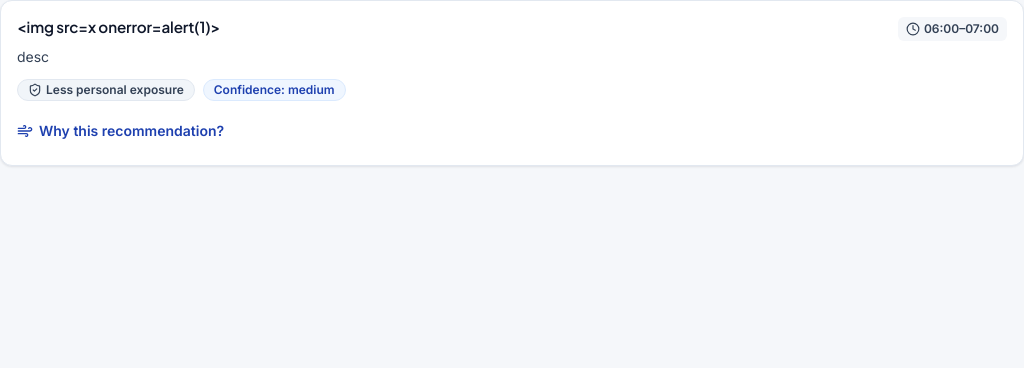
Scenario: RecommendationCard › renders text safely and exposes the explanation
Expected: the heading "<img src=x onerror=alert(1)>" is shown, [17,17,220,38]
Step 1. Click the heading "Why this recommendation?" → (121, 130), box [17,122,224,139]
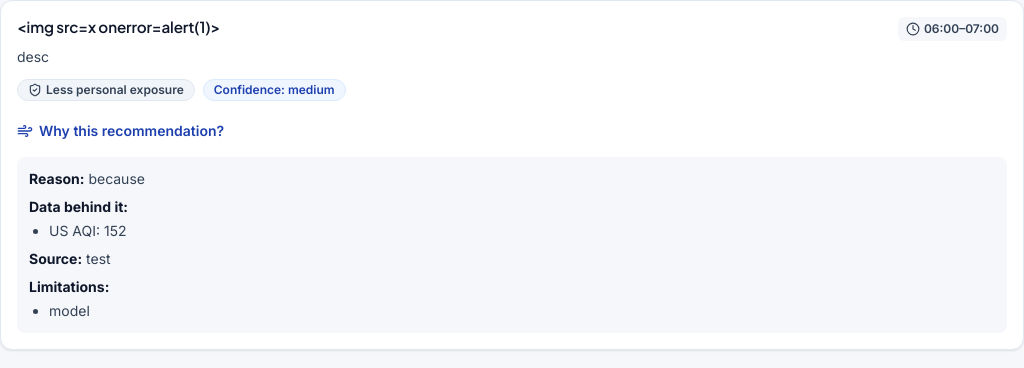
Expected: the text "Confidence: medium" is shown, [203,79,346,101]
Now the list item "US AQI: 152" is shown, box [49,222,126,239]
